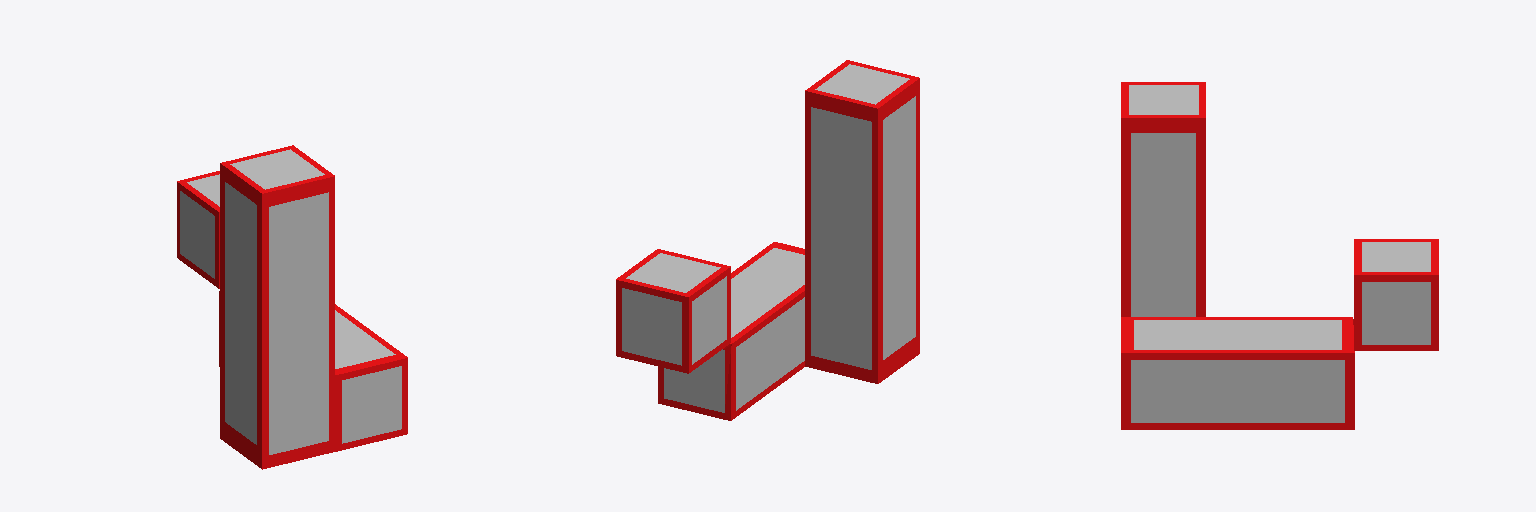
The model's file is laravel.obj.
The picture shows the model from 3 angles: view 1: azimuth 30°, elevation 25°; view 2: azimuth 150°, elevation 25°; view 3: azimuth 270°, elevation 25°; orthographic projection.
Visible parts, largest first — view 1: Cube.005_Cube.010, Cube.006_Cube.011, Cube.002_Cube.008, Cube_Cube.007, Cube.001_Cube.009, Cube.003_Cube.004; view 2: Cube.005_Cube.010, Cube.002_Cube.008, Cube.006_Cube.011, Cube_Cube.007, Cube.003_Cube.004, Cube.001_Cube.009; view 3: Cube.002_Cube.008, Cube.005_Cube.010, Cube.001_Cube.009, Cube_Cube.007, Cube.006_Cube.011, Cube.003_Cube.004.
Part boxes in pixels (bbox=[...]): Cube.005_Cube.010: bbox=[225, 149, 328, 454]; Cube.006_Cube.011: bbox=[220, 145, 334, 469]; Cube.002_Cube.008: bbox=[335, 310, 401, 443]; Cube_Cube.007: bbox=[180, 174, 219, 278]; Cube.001_Cube.009: bbox=[219, 291, 407, 451]; Cube.003_Cube.004: bbox=[177, 171, 219, 288]; Cube.005_Cube.010: bbox=[811, 64, 915, 369]; Cube.002_Cube.008: bbox=[664, 248, 804, 412]; Cube.006_Cube.011: bbox=[805, 60, 919, 383]; Cube_Cube.007: bbox=[622, 253, 726, 365]; Cube.003_Cube.004: bbox=[616, 249, 730, 373]; Cube.001_Cube.009: bbox=[658, 242, 804, 420]; Cube.002_Cube.008: bbox=[1131, 320, 1344, 422]; Cube.005_Cube.010: bbox=[1129, 85, 1198, 316]; Cube.001_Cube.009: bbox=[1121, 317, 1354, 429]; Cube_Cube.007: bbox=[1362, 242, 1430, 344]; Cube.006_Cube.011: bbox=[1121, 82, 1205, 316]; Cube.003_Cube.004: bbox=[1354, 239, 1438, 350].
Bounding box in the file's own units: 0.3454 × 0.6235 × 0.6502.